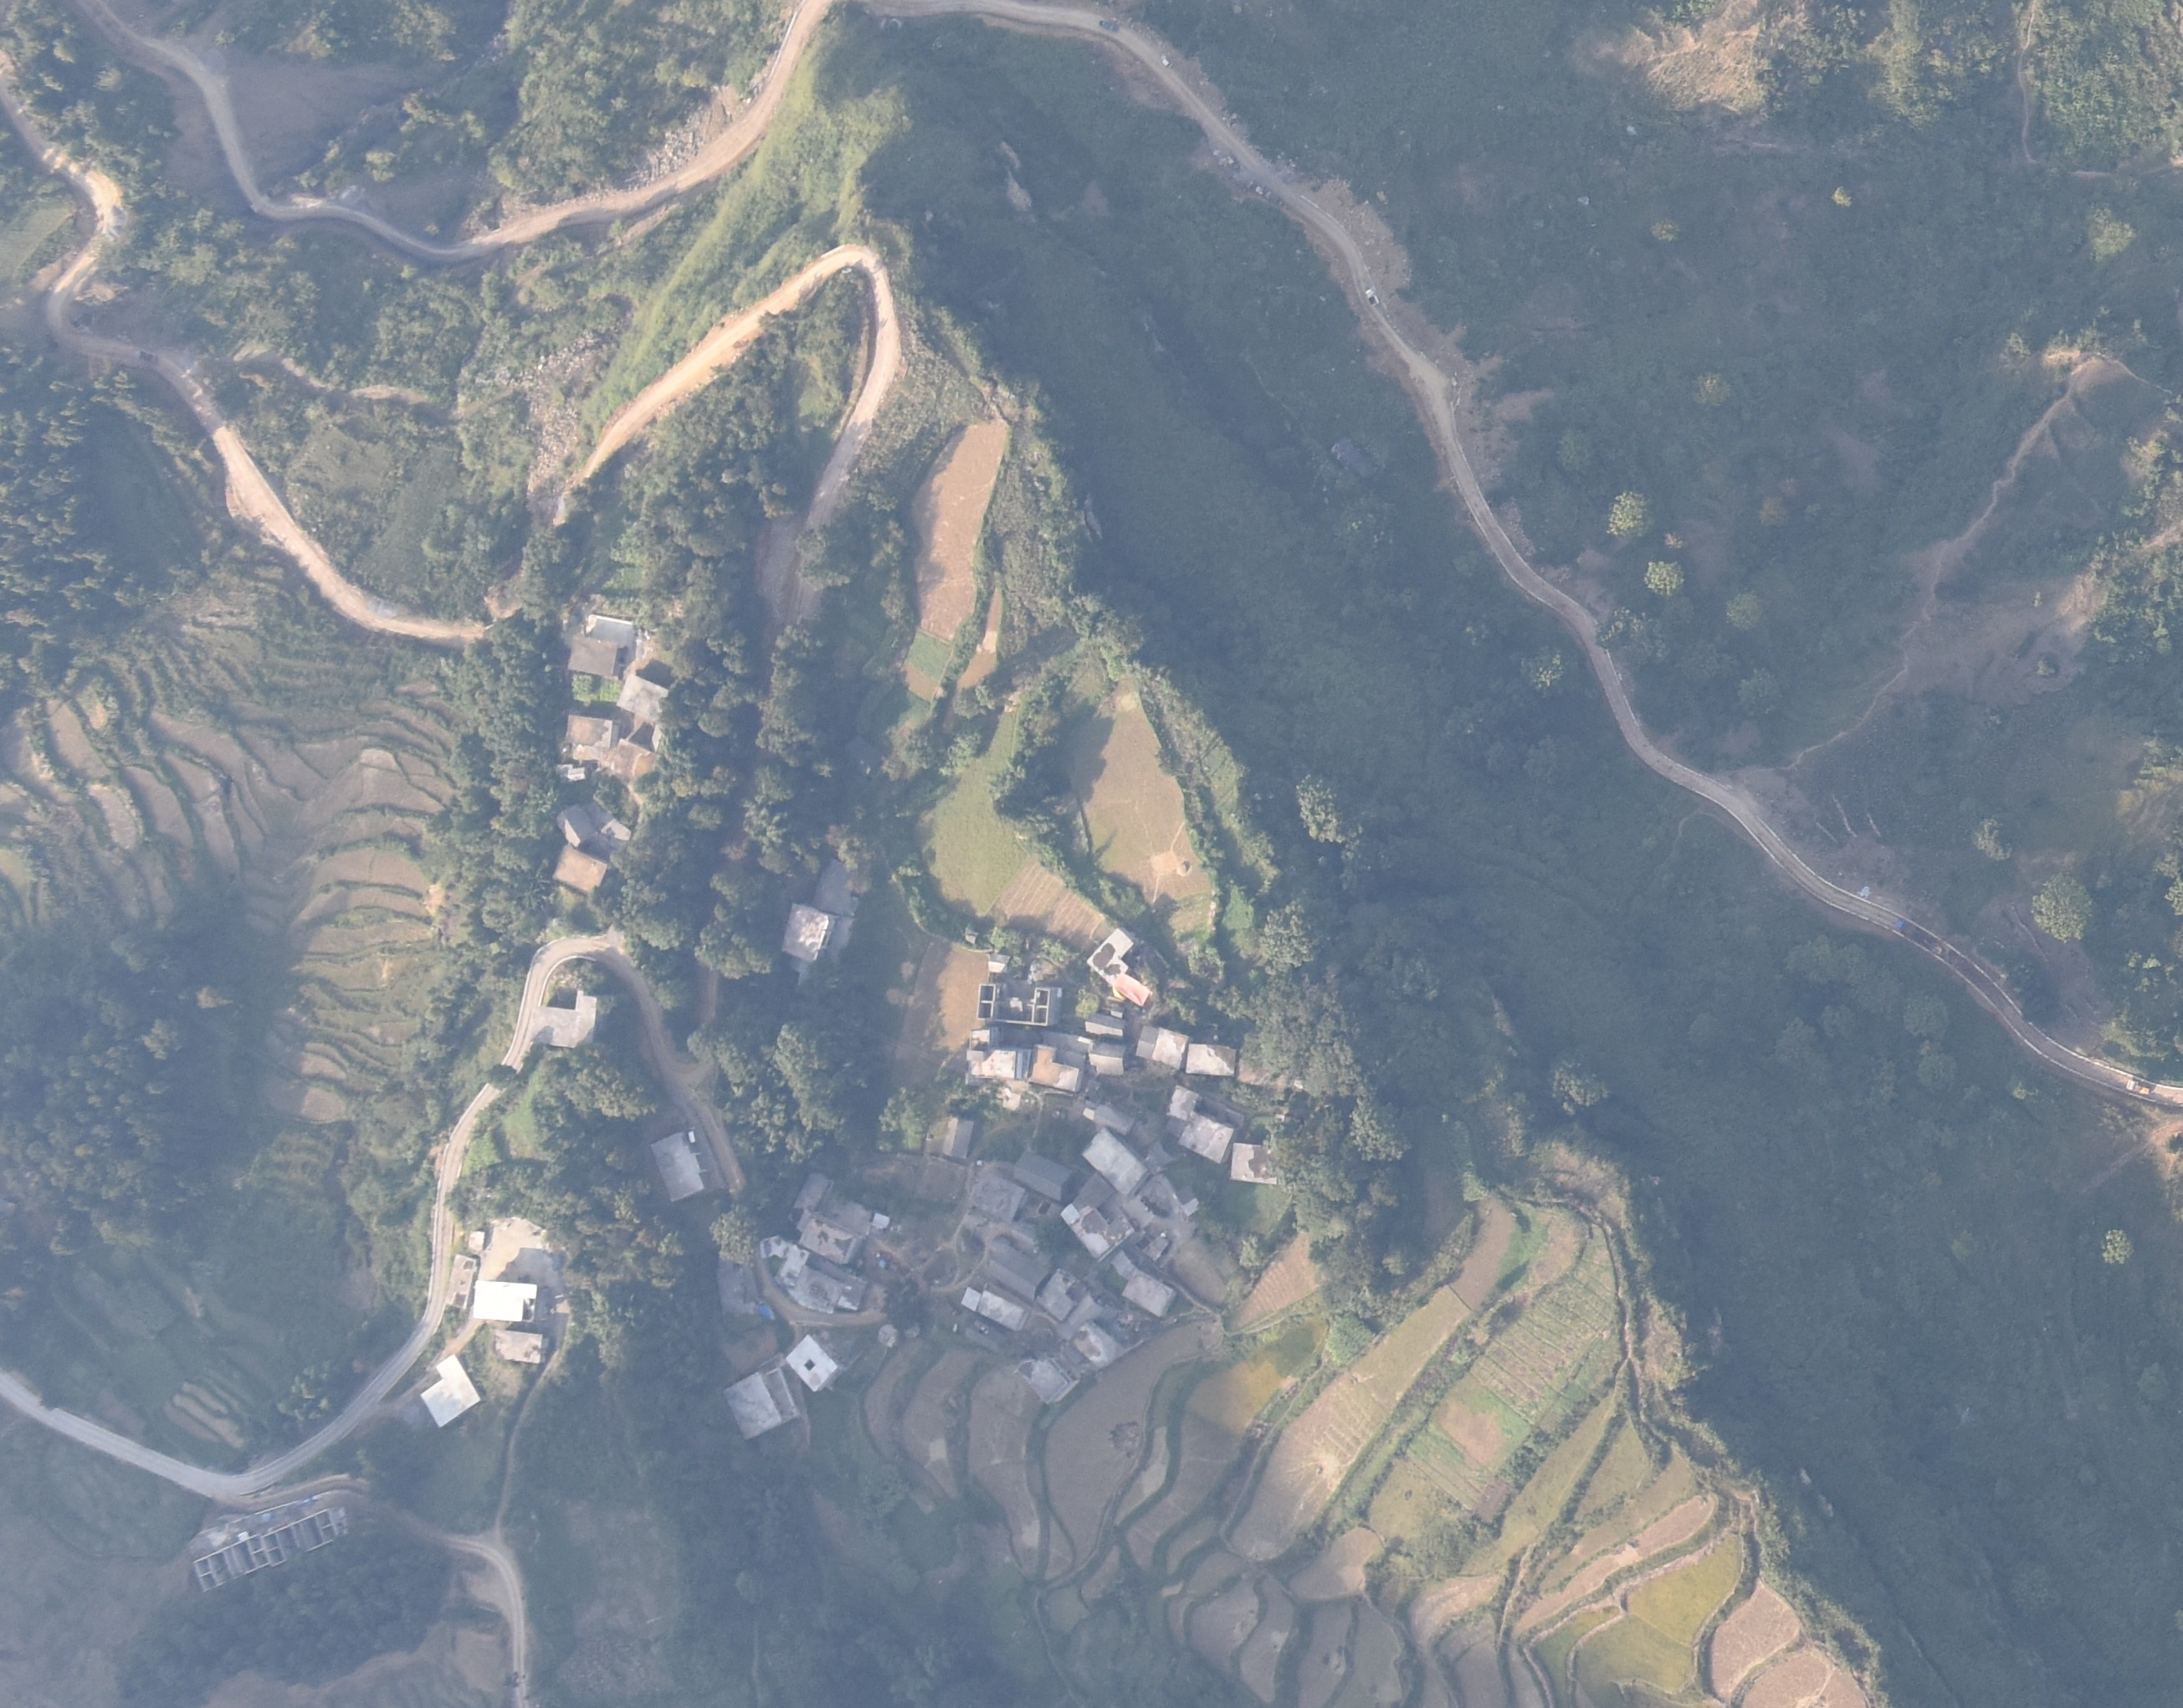building: (765, 1217, 868, 1315), (1063, 1178, 1130, 1253), (416, 1354, 482, 1430), (725, 1370, 797, 1437), (1168, 1086, 1231, 1161), (1088, 932, 1154, 1003), (193, 1533, 269, 1593), (260, 1510, 340, 1566), (647, 1132, 707, 1201), (1042, 1272, 1100, 1341), (1083, 1134, 1148, 1194), (1107, 1254, 1175, 1313), (533, 994, 595, 1047), (785, 1334, 842, 1391), (812, 854, 865, 914), (966, 1031, 1031, 1079), (985, 1244, 1045, 1295), (1010, 1152, 1068, 1199), (960, 1285, 1026, 1327), (781, 902, 827, 962), (447, 1230, 480, 1311), (549, 847, 608, 893), (475, 1281, 540, 1322), (618, 673, 672, 723), (1084, 1013, 1130, 1070), (1017, 1357, 1070, 1405), (567, 636, 624, 679), (1029, 1044, 1083, 1088), (613, 741, 661, 787), (1136, 1022, 1184, 1068), (1230, 1141, 1279, 1184), (493, 1329, 542, 1366), (555, 801, 594, 847), (565, 714, 613, 749), (941, 1116, 973, 1162), (1187, 1045, 1235, 1075), (601, 820, 633, 854), (548, 764, 587, 785), (989, 951, 1008, 973)
vehicle: (688, 1130, 698, 1146)
